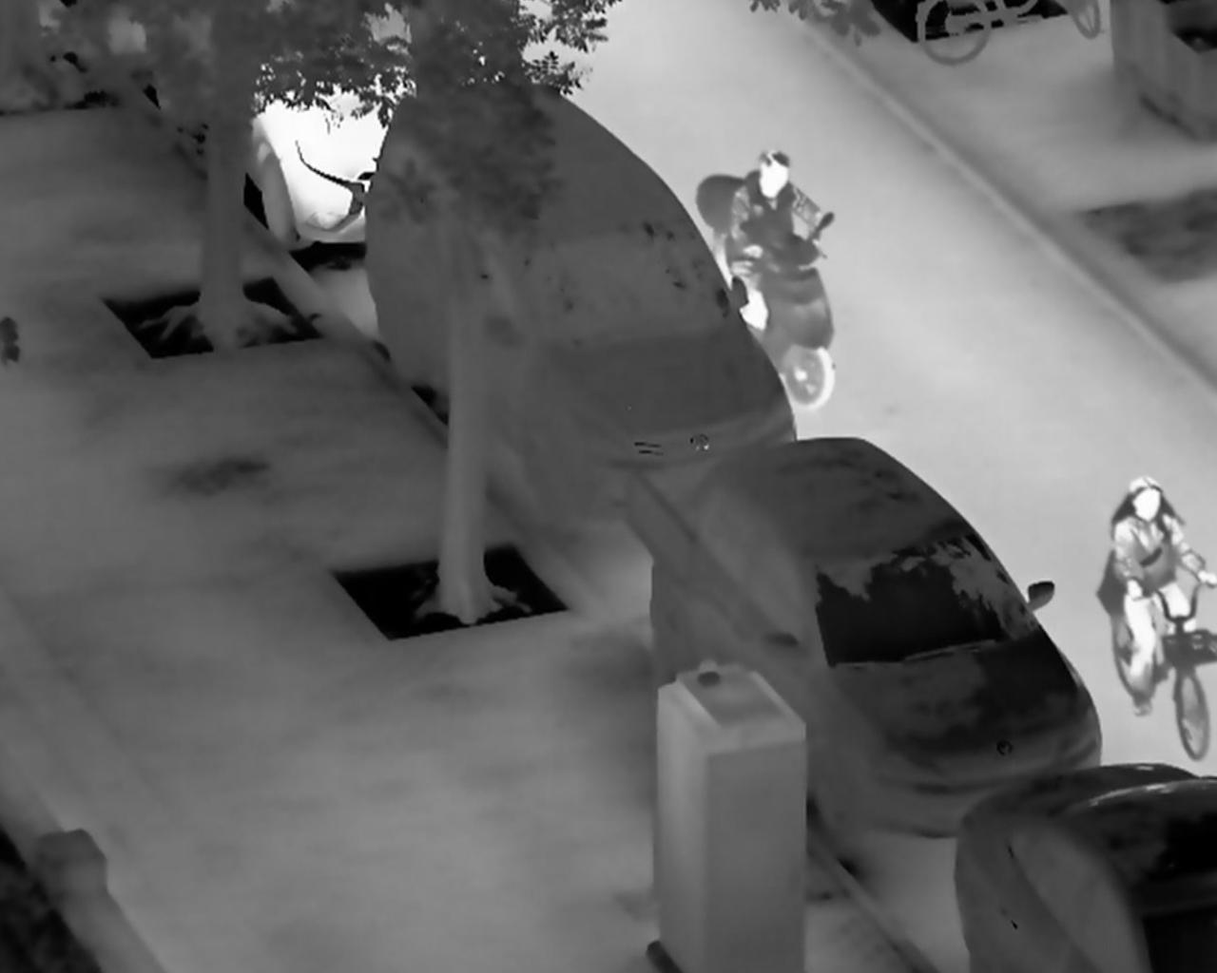person: (1107, 471, 1217, 720), (726, 144, 835, 334)
